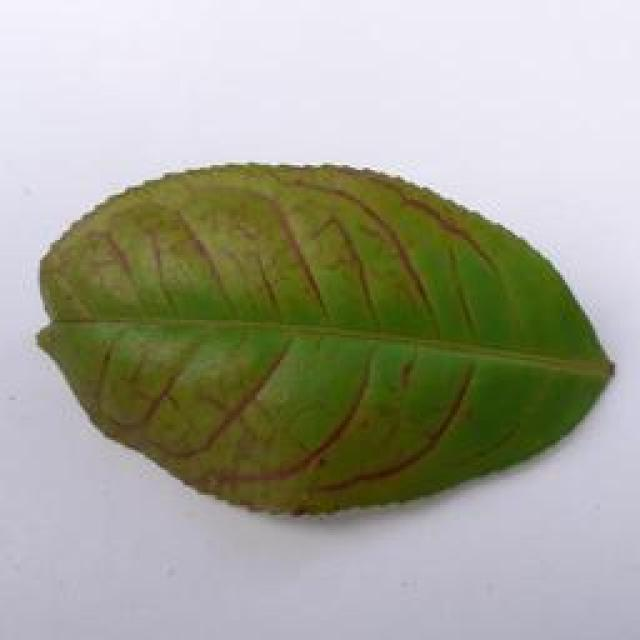Red Leaf Spot: (28, 145, 616, 527)
